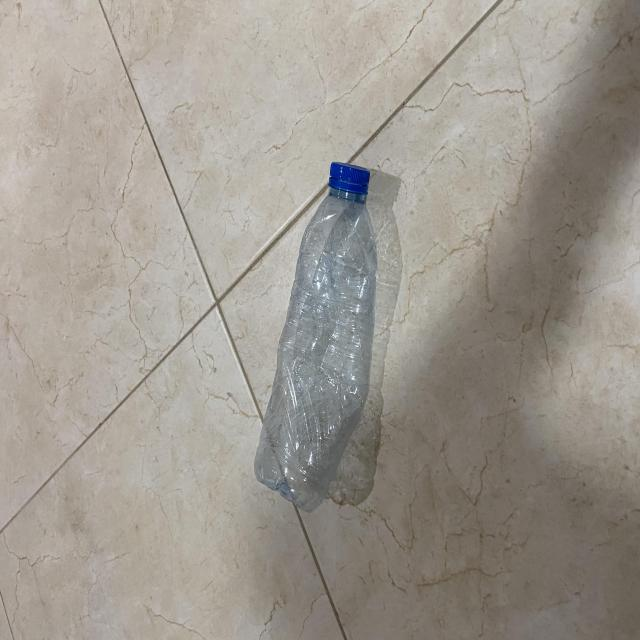plastic: (254, 162, 379, 521)
